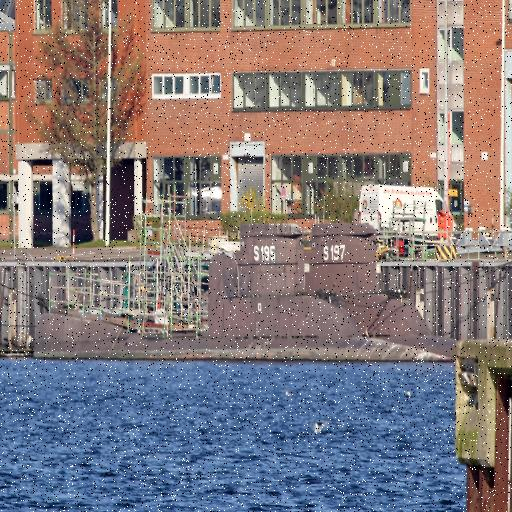submarine: (31, 255, 457, 361), (283, 218, 473, 360)
